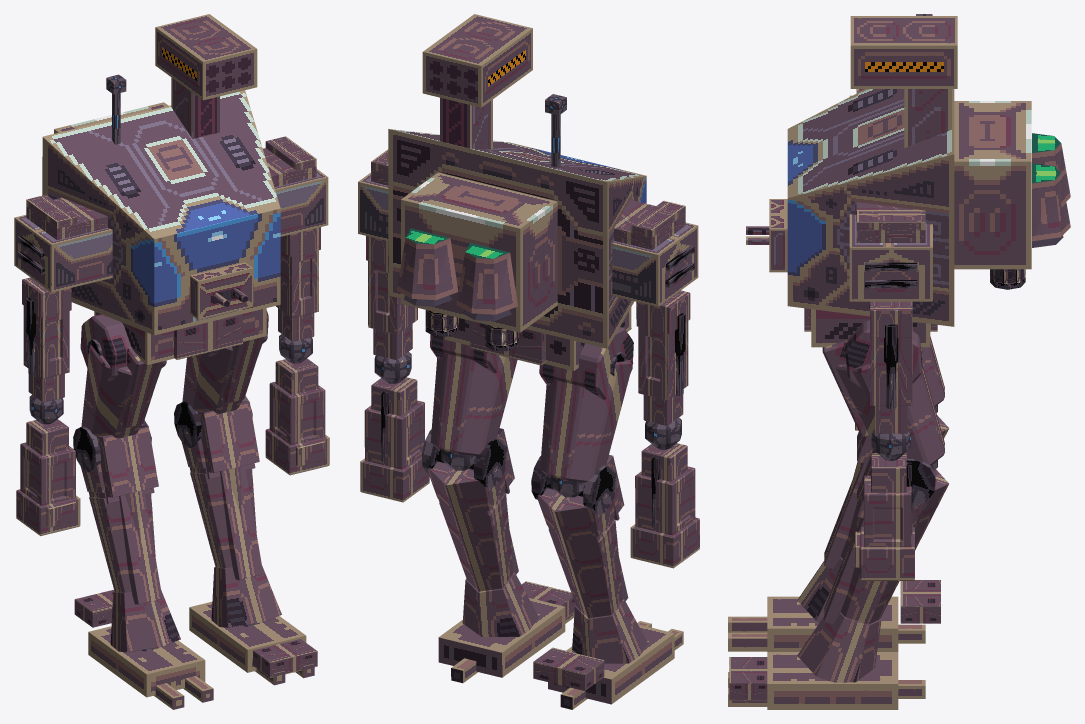
The model's file is mech_combat.glb.
3 views of the same model, side by side, from view 1: azimuth 30°, elevation 25°; view 2: azimuth 150°, elevation 25°; view 3: azimuth 270°, elevation 25° (orthographic). The views are drawn at different scales.
Visible parts, largest first — view 1: Torso-head, L_shin, R_shin, missile mount, R_thigh, L_forearm, R_forearm, R_foot, R_upper_arm, R_shoulder, L_thigh, L_upper_arm (+13 smaller); view 2: Torso-head, jetpack, L_shin, R_shin, missile mount, R_thigh, L_thigh, R_forearm, L_forearm, R_upper_arm, L_foot, R_shoulder (+13 smaller); view 3: Torso-head, jetpack, missile mount, L_shin, L_foot, L_forearm, L_thigh, L_upper_arm, R_foot, L_shoulder, R_shin, detail_pauldron_L (+8 smaller).
Part boxes in pixels (bbox=[...]): Torso-head: bbox=[42, 90, 280, 335]; L_shin: bbox=[174, 395, 281, 627]; R_shin: bbox=[73, 420, 180, 652]; missile mount: bbox=[155, 14, 257, 138]; R_thigh: bbox=[80, 314, 166, 438]; L_forearm: bbox=[265, 358, 329, 475]; R_forearm: bbox=[16, 419, 80, 535]; R_foot: bbox=[88, 626, 213, 709]; R_upper_arm: bbox=[22, 277, 71, 402]; R_shoulder: bbox=[14, 215, 112, 292]; L_thigh: bbox=[182, 310, 268, 413]; L_upper_arm: bbox=[276, 227, 320, 341]; Torso-head: bbox=[388, 129, 646, 348]; jetpack: bbox=[397, 172, 557, 332]; L_shin: bbox=[422, 428, 538, 636]; R_shin: bbox=[531, 455, 648, 663]; missile mount: bbox=[422, 14, 532, 149]; R_thigh: bbox=[539, 327, 633, 482]; L_thigh: bbox=[430, 334, 517, 455]; R_forearm: bbox=[630, 443, 699, 568]; L_forearm: bbox=[360, 377, 429, 502]; R_upper_arm: bbox=[636, 290, 690, 425]; L_foot: bbox=[438, 598, 574, 683]; R_shoulder: bbox=[612, 222, 698, 306]; Torso-head: bbox=[787, 89, 954, 326]; jetpack: bbox=[954, 101, 1070, 269]; missile mount: bbox=[850, 16, 957, 147]; L_shin: bbox=[797, 449, 948, 682]; L_foot: bbox=[728, 652, 925, 709]; L_forearm: bbox=[855, 453, 914, 580]; L_thigh: bbox=[822, 320, 944, 465]; L_upper_arm: bbox=[870, 301, 912, 433]; R_foot: bbox=[728, 596, 925, 651]; L_shoulder: bbox=[849, 214, 932, 301]; R_shin: bbox=[797, 415, 948, 622]; detail_pauldron_L: bbox=[856, 202, 925, 242].
Size of the model in its own units: 18.95 by 36.71 by 17.28.
Materials: 7 (7 with a texture image).
